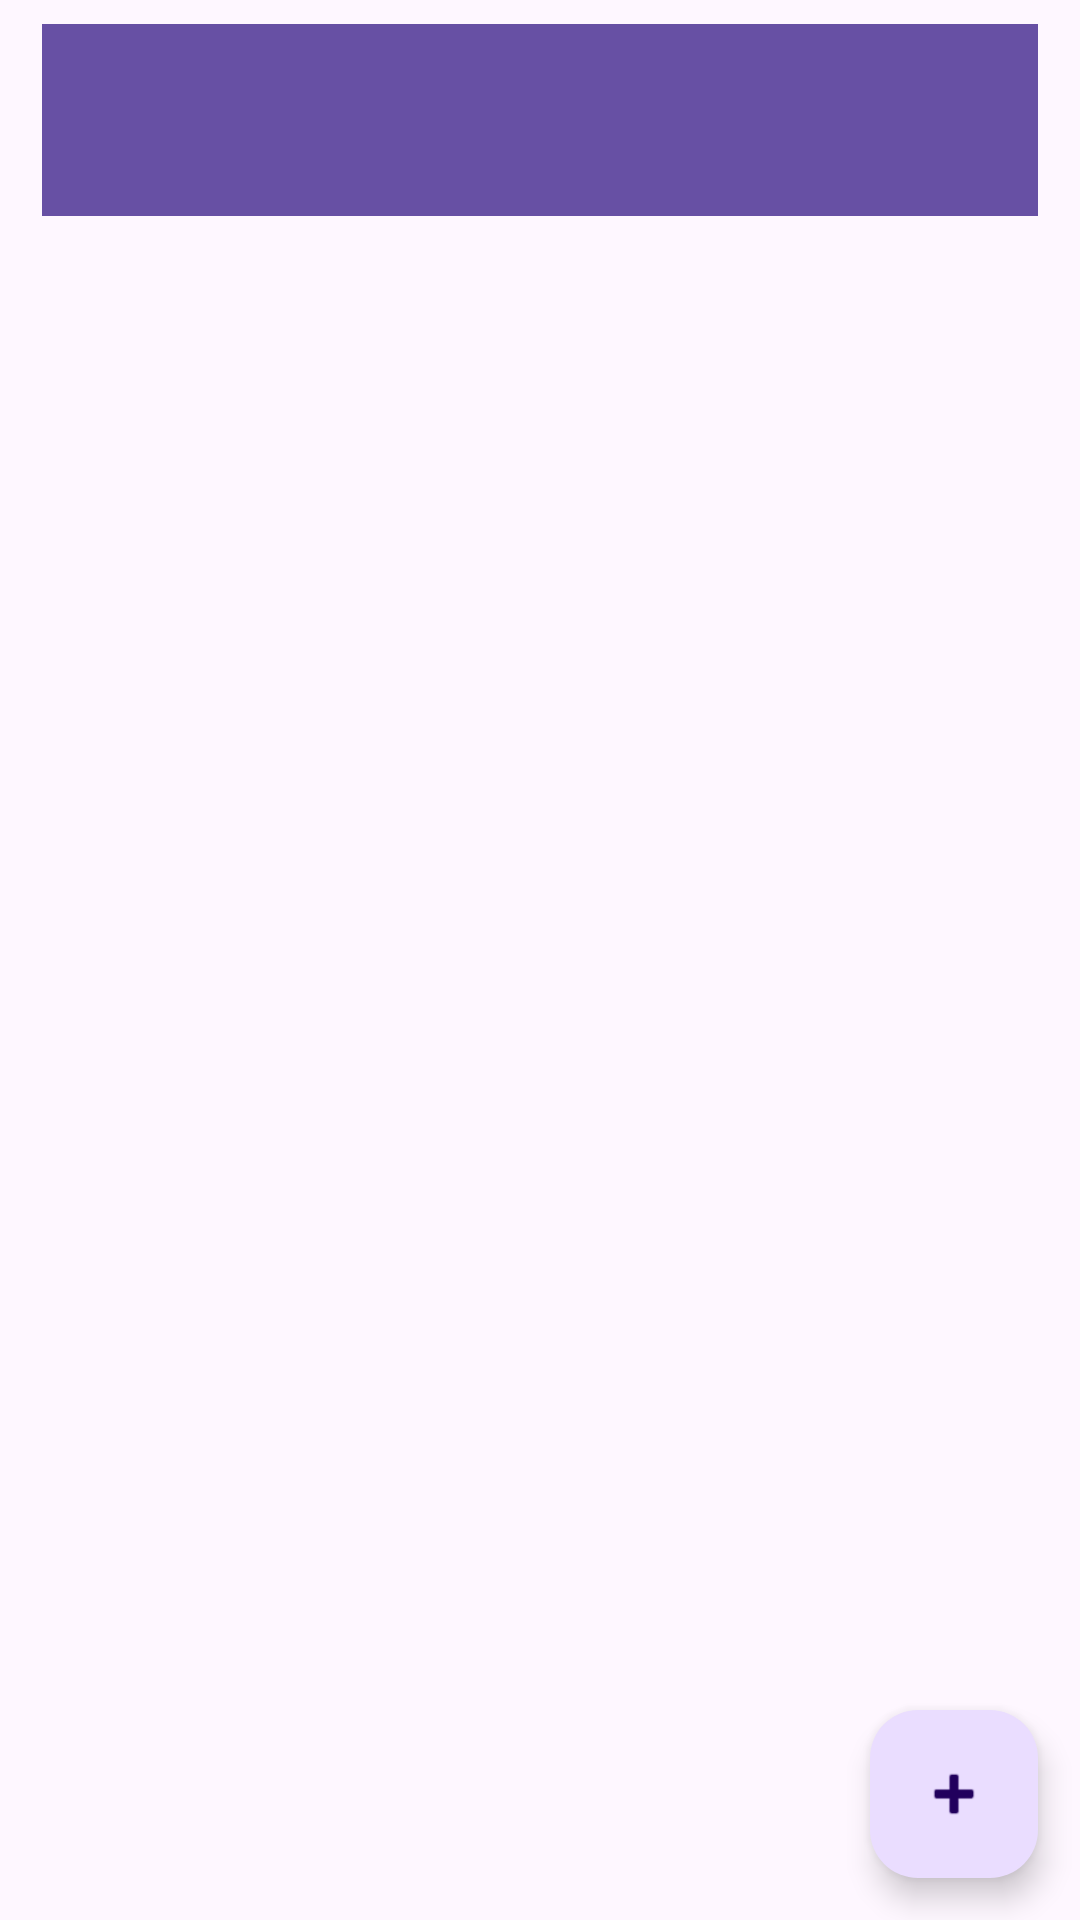

Named icons in this screenshot (1080 × 1920) and their centers, (x=x, y=y):
add: (x=954, y=1794)
